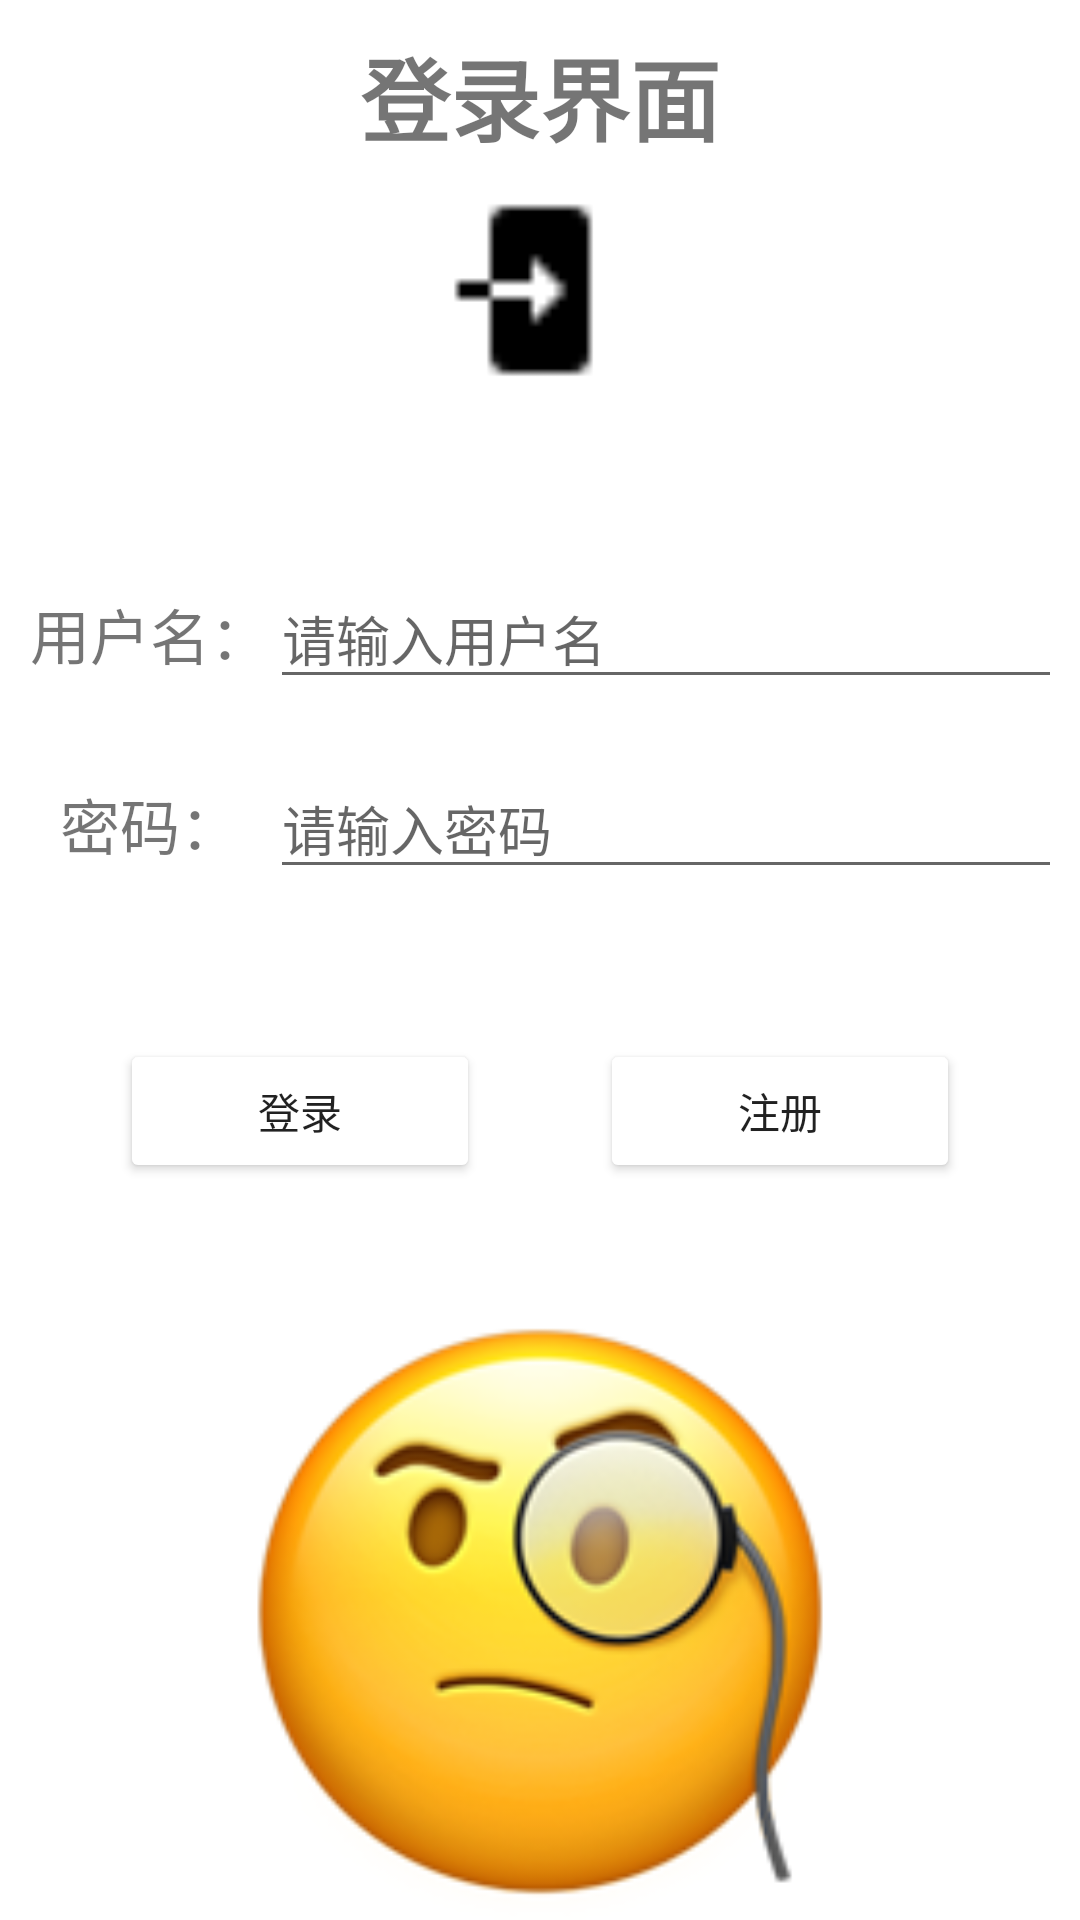

Where to tap for icons on this 1080*1920 app screen, as [x,y]:
login: [523,290]
